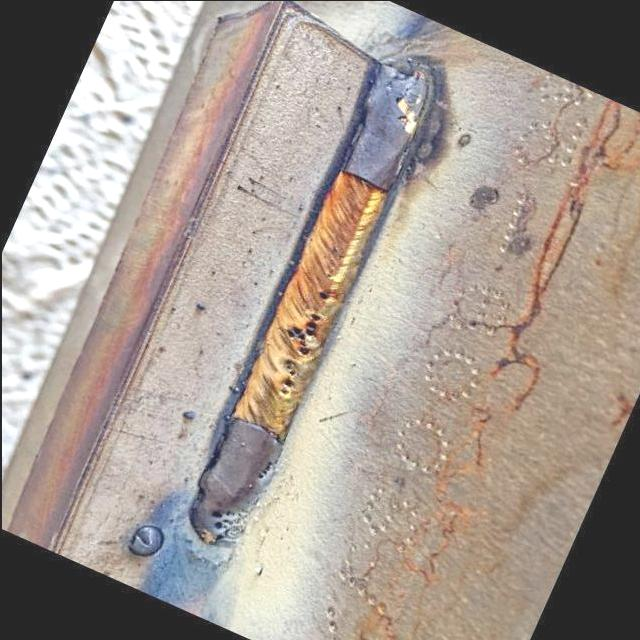defect: (277, 306, 322, 359), (275, 356, 300, 395), (206, 507, 245, 532), (253, 457, 278, 485), (314, 286, 331, 306)
